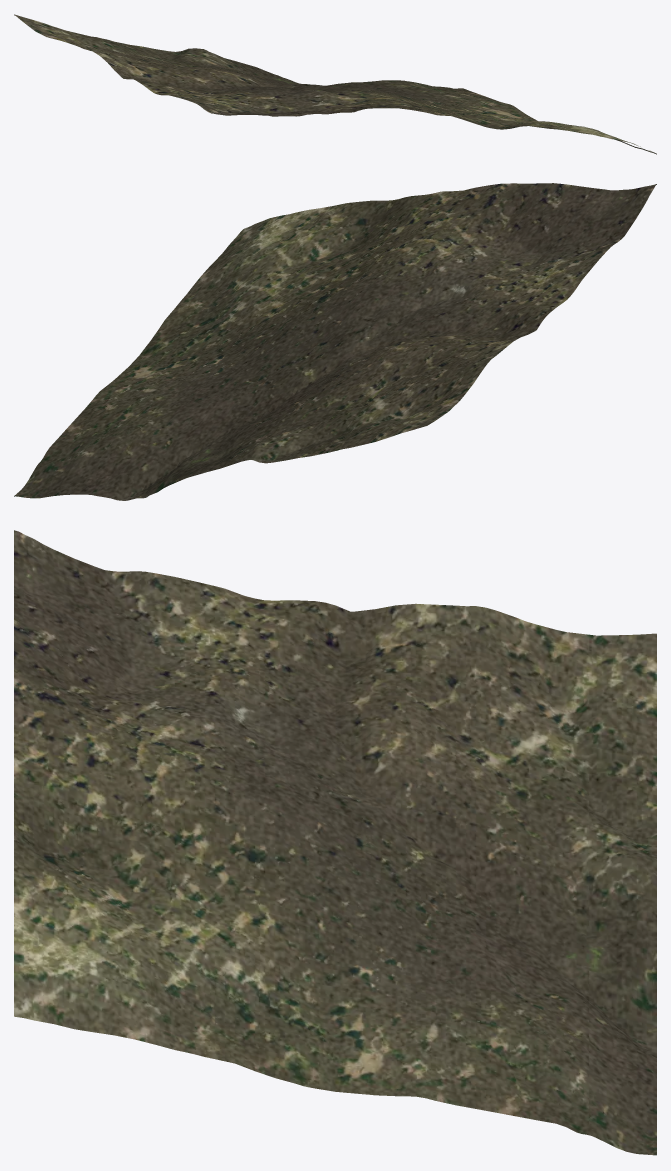
3 renders of one model, top to bottom at view 1: azimuth 30°, elevation 25°; view 2: azimuth 150°, elevation 25°; view 3: azimuth 270°, elevation 25°, orthographic. The views are drawn at different scales.
Size of the model in its own units: 500 by 284 by 481.
Materials: 1 (1 with a texture image).
